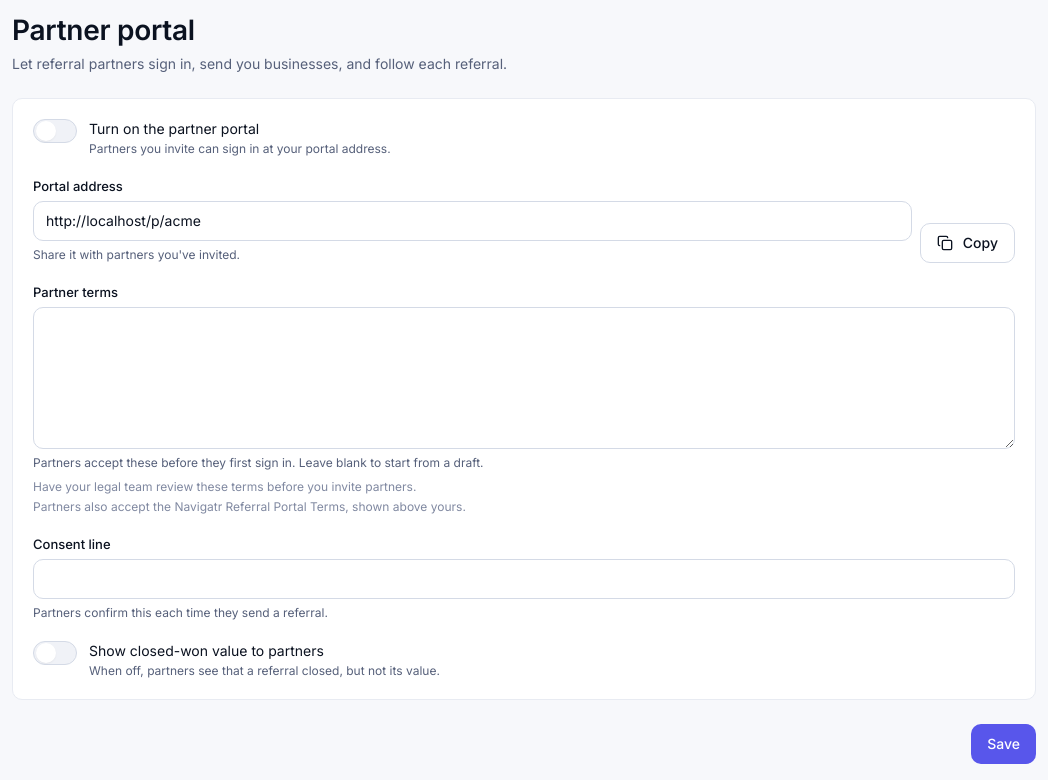
Scenario: PartnerPortalTab › turns the portal on and shows the starting terms with their version
The image size is (1048, 780).
Click the 1st switch named "Turn on the partner portal" at coordinates (55, 131), box [33,119,77,143]
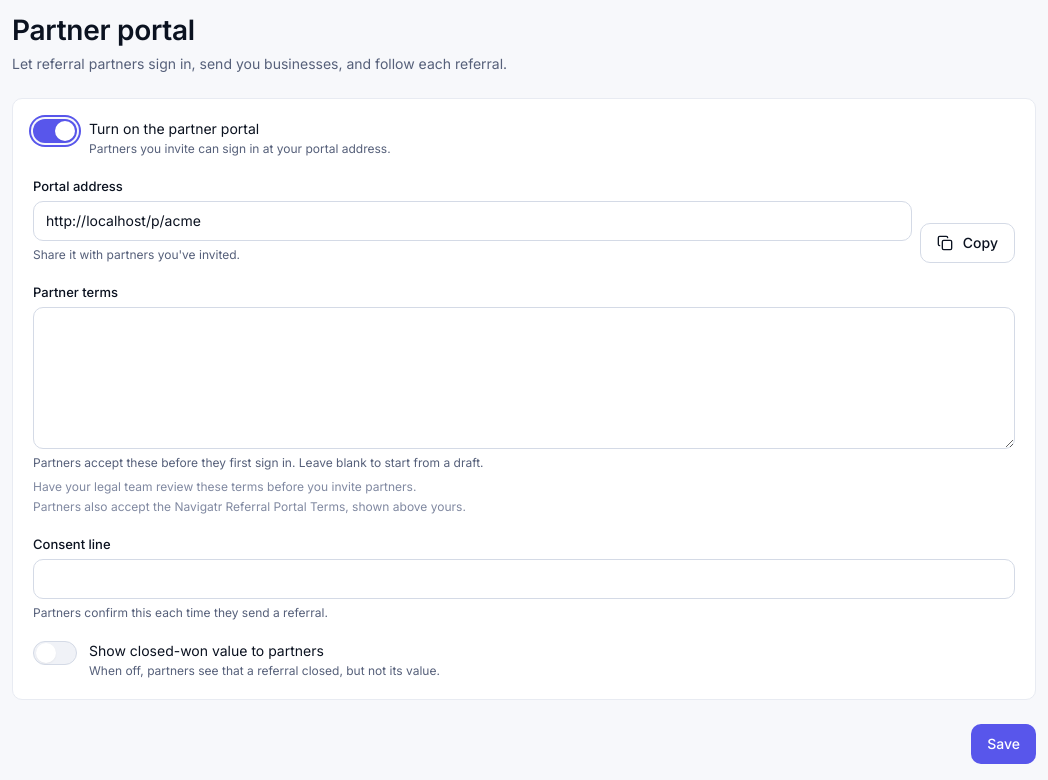
Click the button "Save" at coordinates (1004, 744), box [971,724,1036,764]
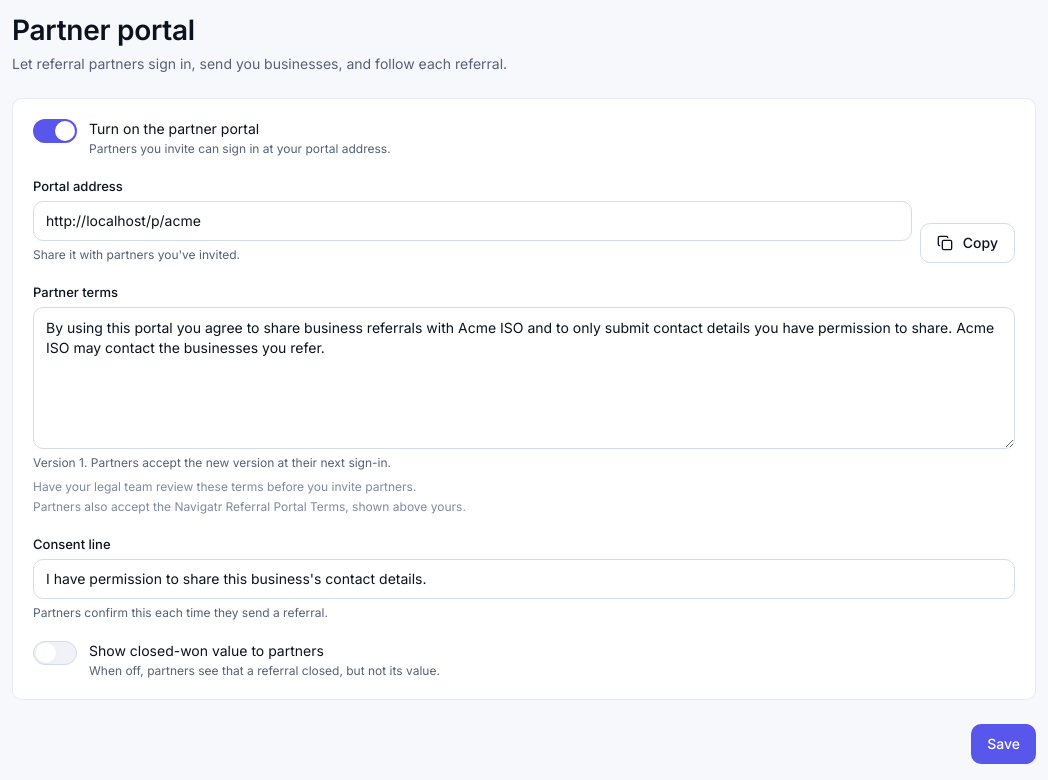
Expected: the switch named "Turn on the partner portal" next to "Turn on the partner portal" is checked, [33,119,77,143]
Expected: the text box showing "By using this portal you agree to share business referrals with Acme ISO and to only submit contact details you have per" is shown, [34,308,1014,448]
Expected: the text "Version 1." is shown, [33,455,391,470]
